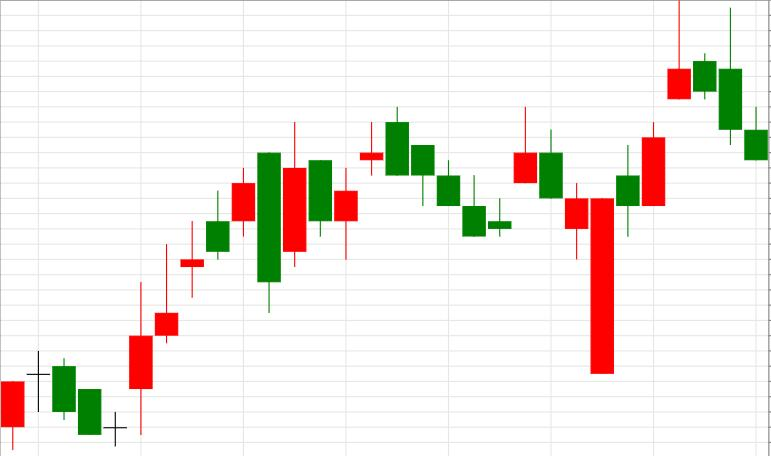bearish_engulfing_fall: (104, 152, 281, 446)
